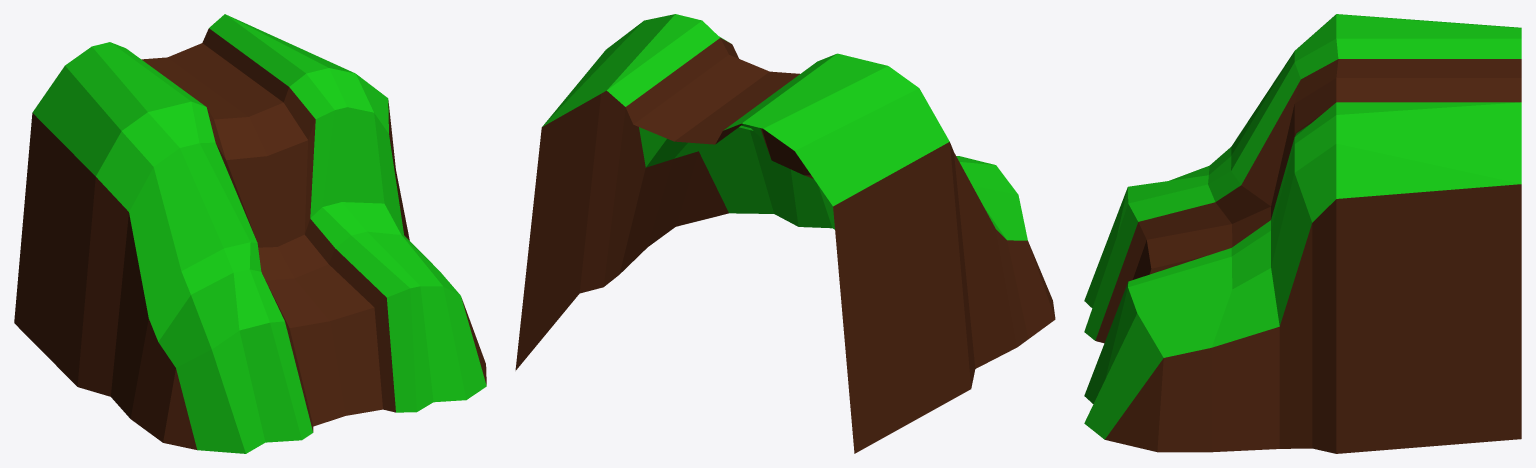
The model's file is waterfall.fbx.
The picture shows the model from 3 angles, left to right: view 1: azimuth 30°, elevation 25°; view 2: azimuth 150°, elevation 25°; view 3: azimuth 270°, elevation 25°; orthographic projection. The views are drawn at different scales.
Parts seen in each view (by area): view 1: waterfall; view 2: waterfall; view 3: waterfall.
Part boxes in pixels (x1=…): waterfall: x1=14, y1=14, x2=486, y2=453; waterfall: x1=515, y1=14, x2=1055, y2=453; waterfall: x1=1084, y1=14, x2=1521, y2=453.
Size of the model in its own units: 3206 by 2370 by 3202.
